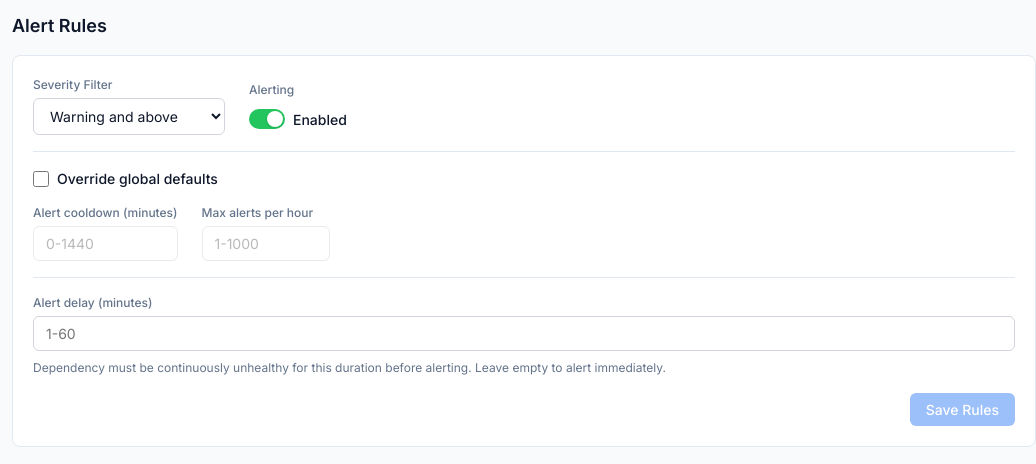
Test case: AlertRules › enables save button when toggle is clicked
Expected: the text "Enabled" is shown, [293,110,347,128]
Click the switch: (298, 119) [249,103,347,135]
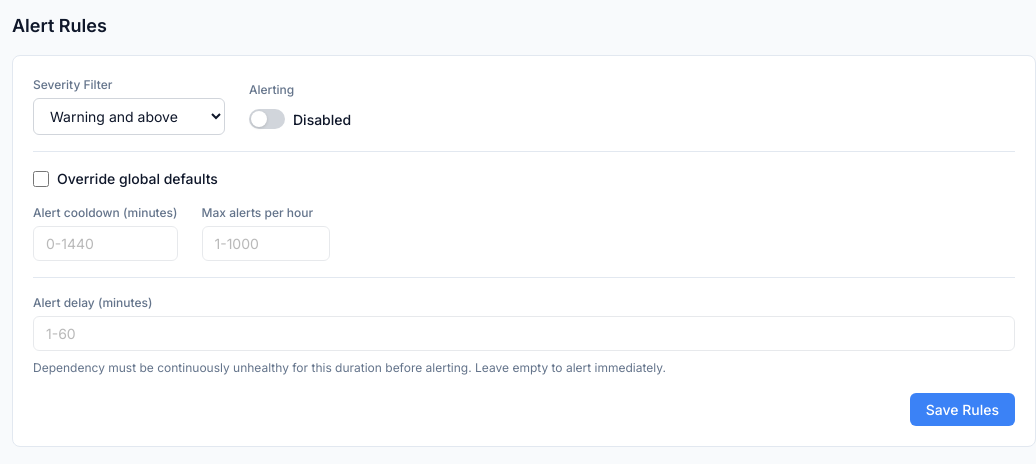
Now the text "Disabled" is shown, box [293,110,351,128]
Now the button "Save Rules" is enabled, box [910,392,1015,426]
